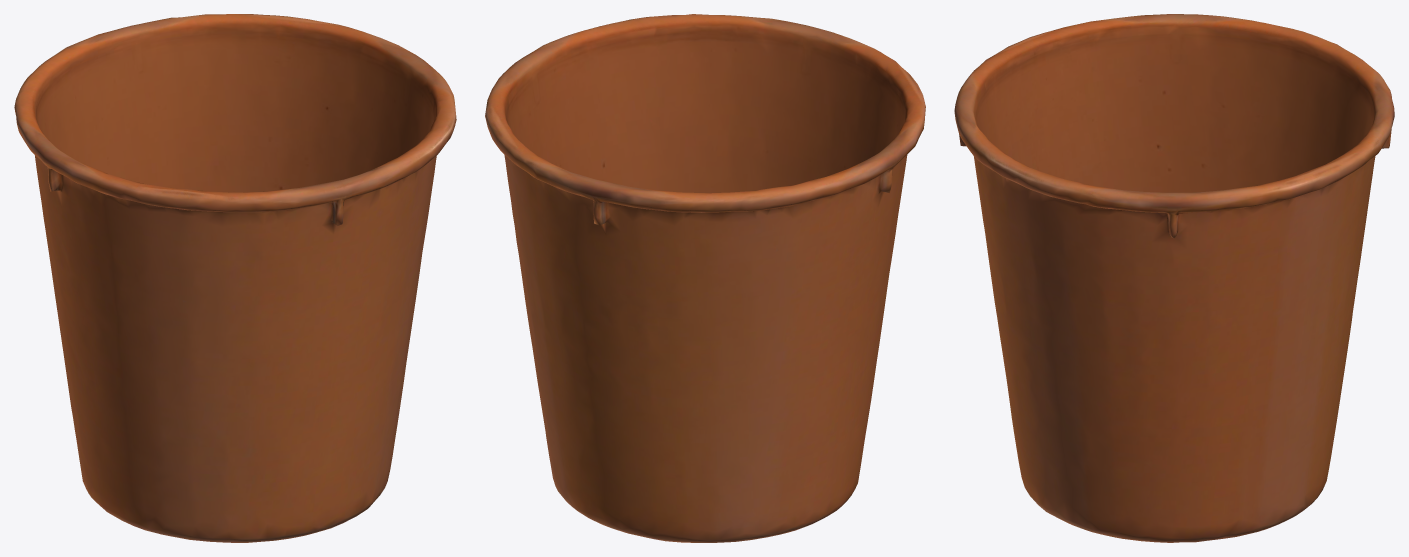
Rendered from Terracotta_Pot_1013160623_texture.fbx.
3 renders of one model, left to right at view 1: azimuth 30°, elevation 25°; view 2: azimuth 150°, elevation 25°; view 3: azimuth 270°, elevation 25°, orthographic.
Parts seen in each view (by area): view 1: Mesh1.0; view 2: Mesh1.0; view 3: Mesh1.0.
Part boxes in pixels (left/top/right/bottom): Mesh1.0: left=14, top=14, right=456, bottom=542; Mesh1.0: left=485, top=14, right=925, bottom=542; Mesh1.0: left=954, top=14, right=1394, bottom=542.
Bounding box in the file's own units: 200 × 190 × 200.
1 material, 1 textured.
